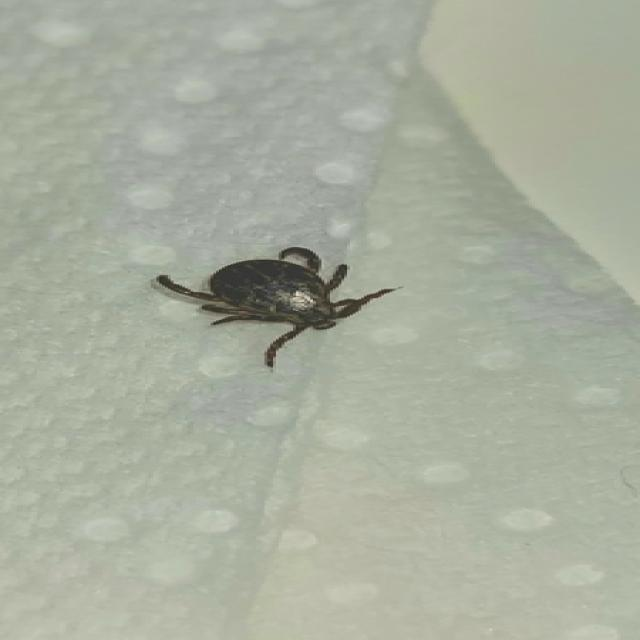Dermacentor Reticulatus-M: (148, 247, 401, 367)
